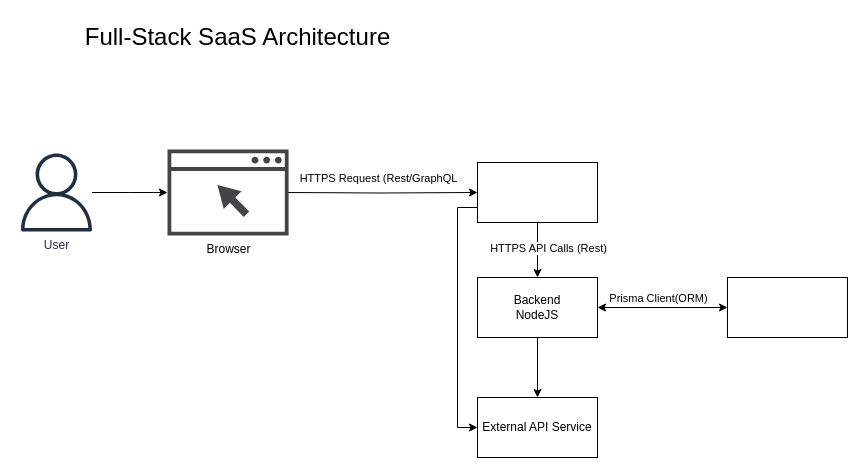
Some shapes in this 865 by 475 pixel diagram are drawn without their labels. Each missing label, with the box of its shape:
Database MongoDB: (726, 276, 848, 338)
Frontend NextJS: (476, 162, 598, 222)
